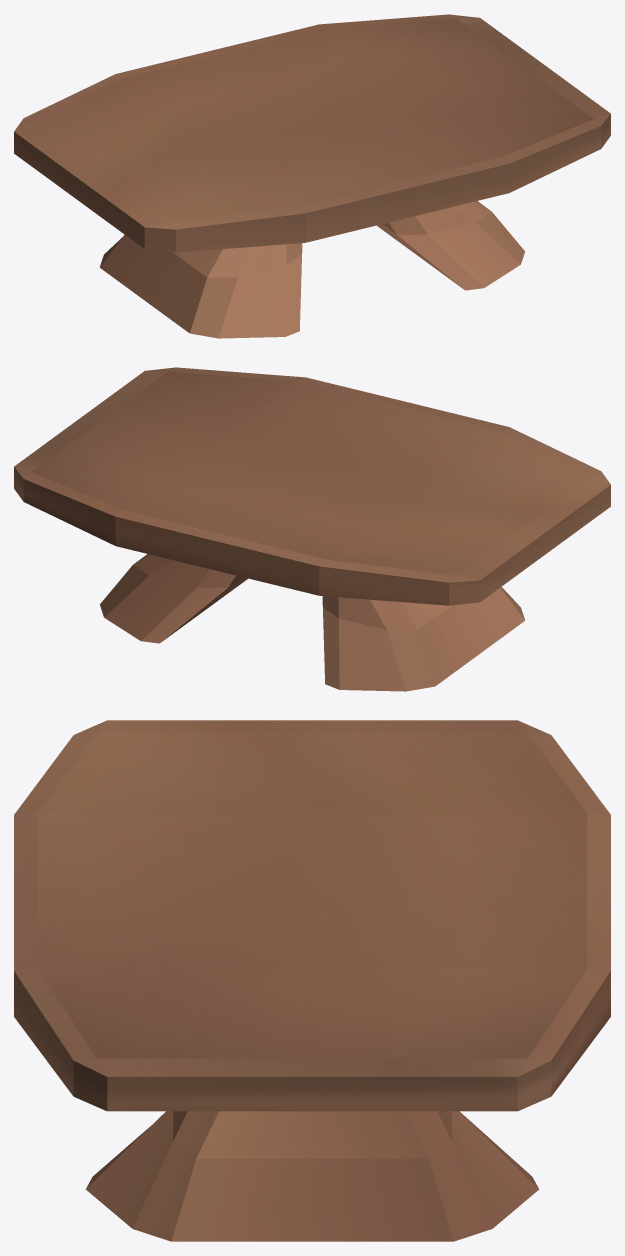
The model's file is Simple_Diner_Table.fbx.
The picture shows the model from 3 angles, top to bottom: view 1: azimuth 30°, elevation 25°; view 2: azimuth 150°, elevation 25°; view 3: azimuth 270°, elevation 25°; orthographic projection. The views are drawn at different scales.
Parts seen in each view (by area): view 1: Cube; view 2: Cube; view 3: Cube.
Part boxes in pixels (x1,y1,x2,y2): Cube: (14,14,610,338); Cube: (14,367,610,691); Cube: (14,720,610,1241).
Size of the model in its own units: 5 by 3.54 by 1.47.
Materials: 1 (1 with a texture image).
